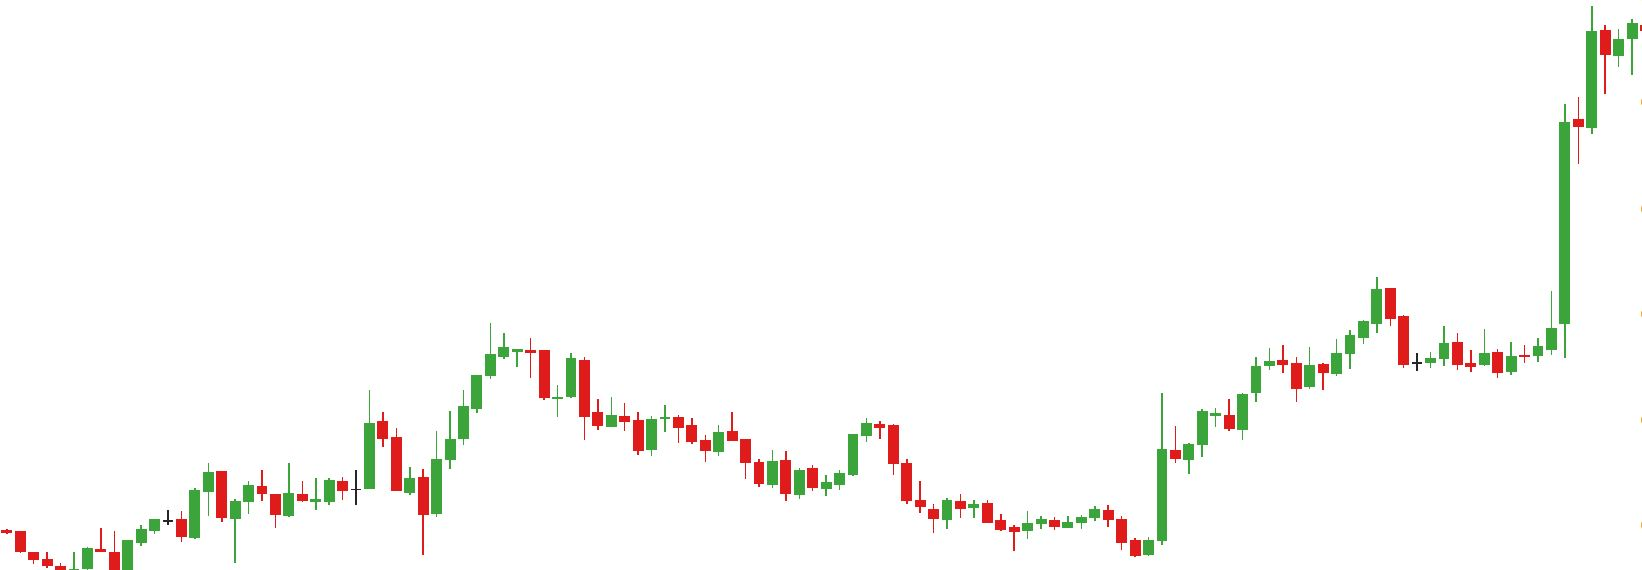sell: (761, 408, 900, 481)
